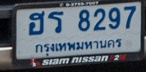txt30: (47, 10, 65, 34)
txt39: (27, 9, 46, 36)
